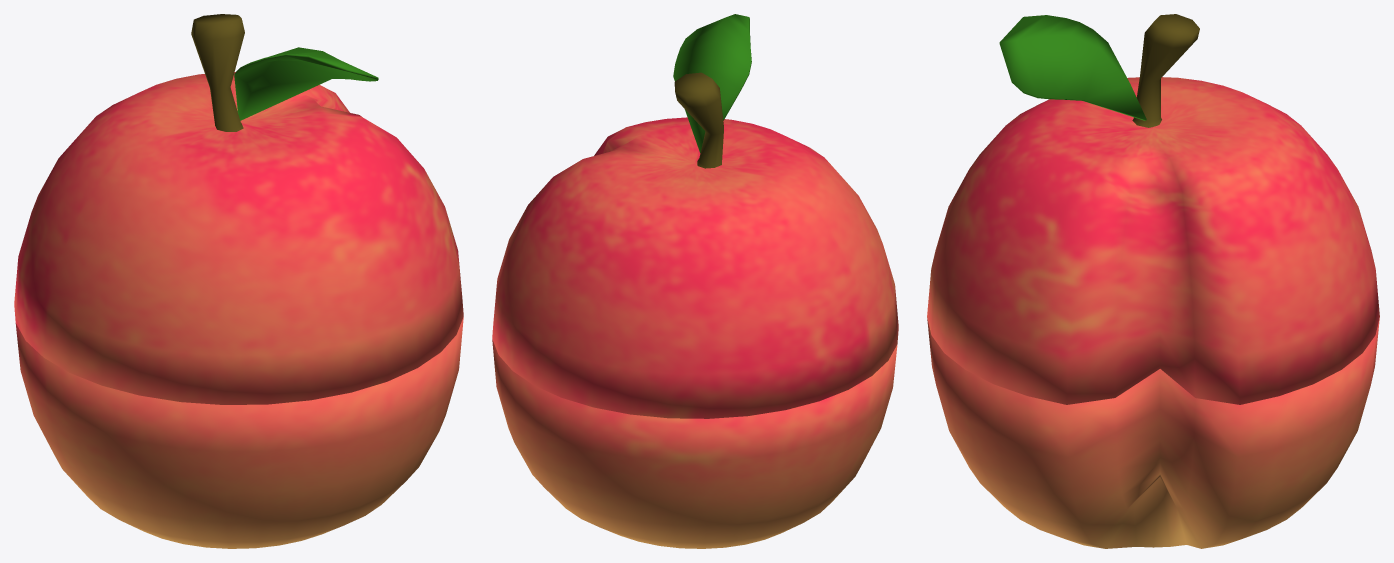
Rendered from PeachSplit.fbx.
3 views of the same model, side by side, from view 1: azimuth 30°, elevation 25°; view 2: azimuth 150°, elevation 25°; view 3: azimuth 270°, elevation 25° (orthographic). The views are drawn at different scales.
Visible parts, largest first — view 1: Sphere.001, Sphere.002; view 2: Sphere.001, Sphere.002; view 3: Sphere.001, Sphere.002.
Boxes of the visible parts, box(x1,y1,x2,y2) form: Sphere.001: box(14, 14, 463, 404); Sphere.002: box(15, 317, 463, 548); Sphere.001: box(492, 14, 898, 418); Sphere.002: box(492, 339, 897, 548); Sphere.001: box(927, 14, 1379, 404); Sphere.002: box(927, 317, 1379, 548).
Size of the model in its own units: 558 by 713 by 580.
Materials: 2 (2 with a texture image).
